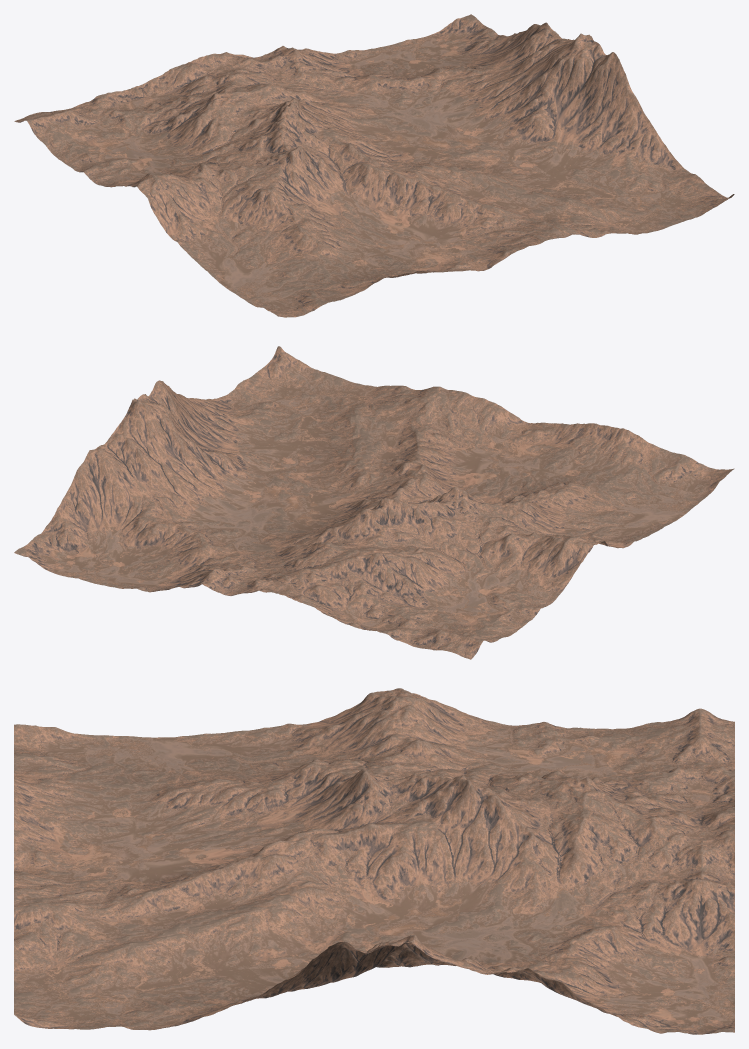
File: Deserted-terrain.fbx
3 renders of one model, top to bottom at view 1: azimuth 30°, elevation 25°; view 2: azimuth 150°, elevation 25°; view 3: azimuth 270°, elevation 25°, orthographic. The views are drawn at different scales.
Parts seen in each view (by area): view 1: red sandtone; view 2: red sandtone; view 3: red sandtone.
Part boxes in pixels (x1,y1,x2,y2): red sandtone: [14, 14, 734, 317]; red sandtone: [14, 346, 734, 659]; red sandtone: [14, 688, 734, 1034].
Size of the model in its own units: 19922 by 3315 by 19922.
